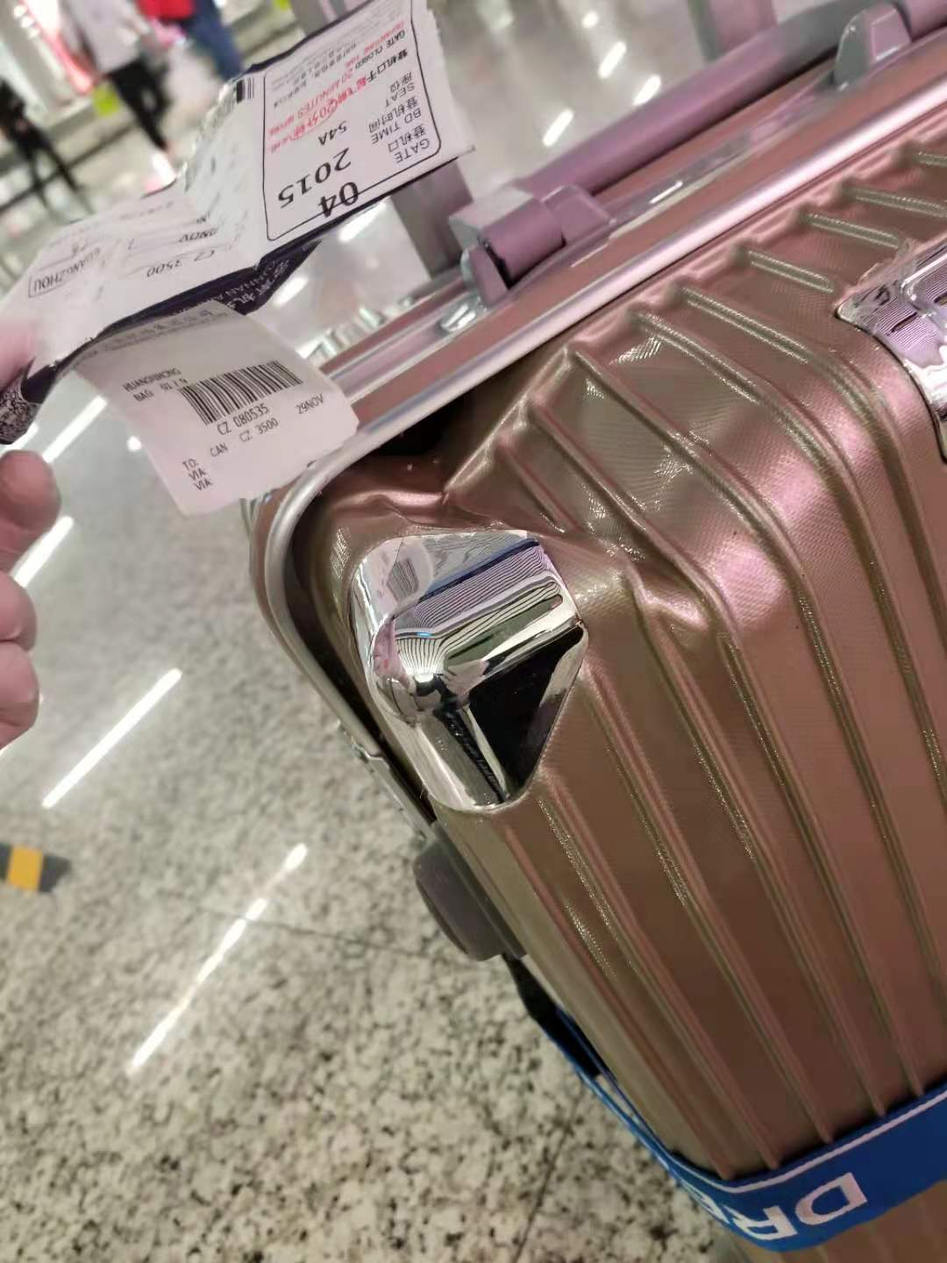rupture: (314, 339, 784, 633)
